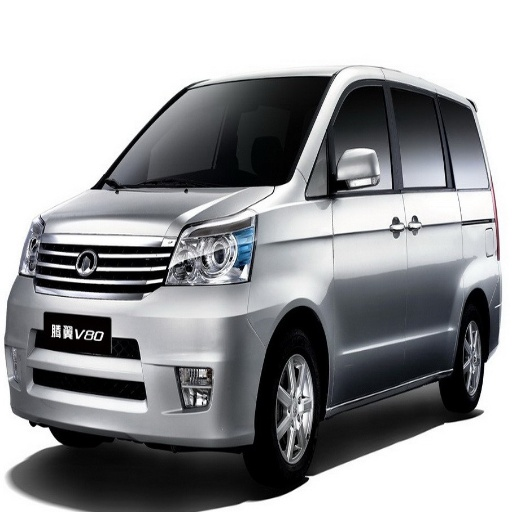front_bumper: (3, 222, 284, 450)
front_glass: (93, 78, 334, 188)
front_left_door: (307, 79, 409, 382)
